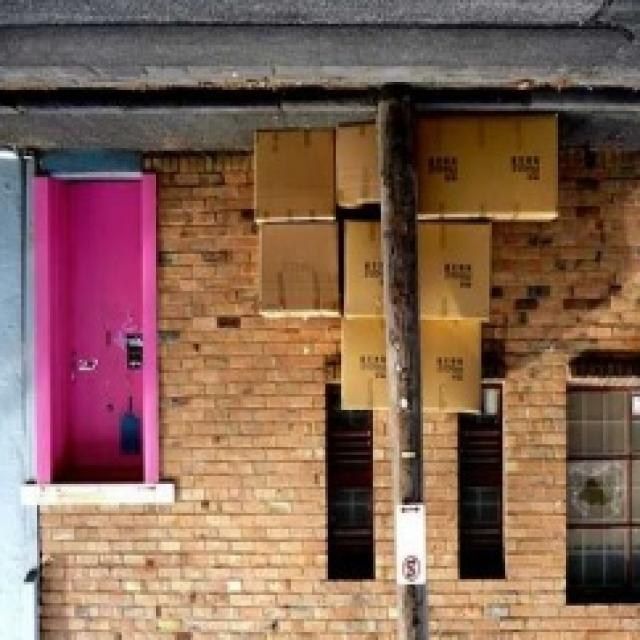box: (412, 114, 552, 223), (412, 224, 497, 317), (255, 223, 334, 322), (248, 130, 330, 223), (414, 313, 476, 414), (336, 316, 400, 409), (335, 212, 385, 321), (332, 122, 384, 206)
